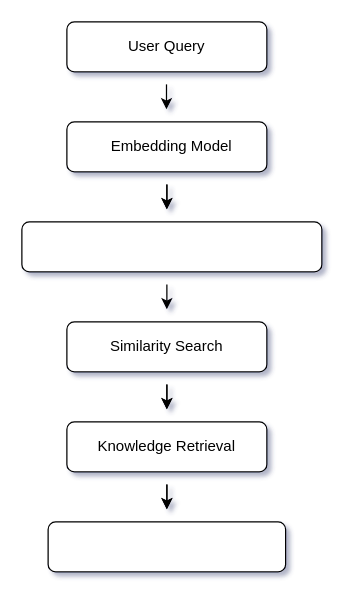
This 351x601 diagram has some shape labels left out. Each missing label, with the centre of its shape:
"Streamlit Web Interface" goes at pixel 166 546.
"Vector Database / Vector Storage" goes at pixel 171 246.
